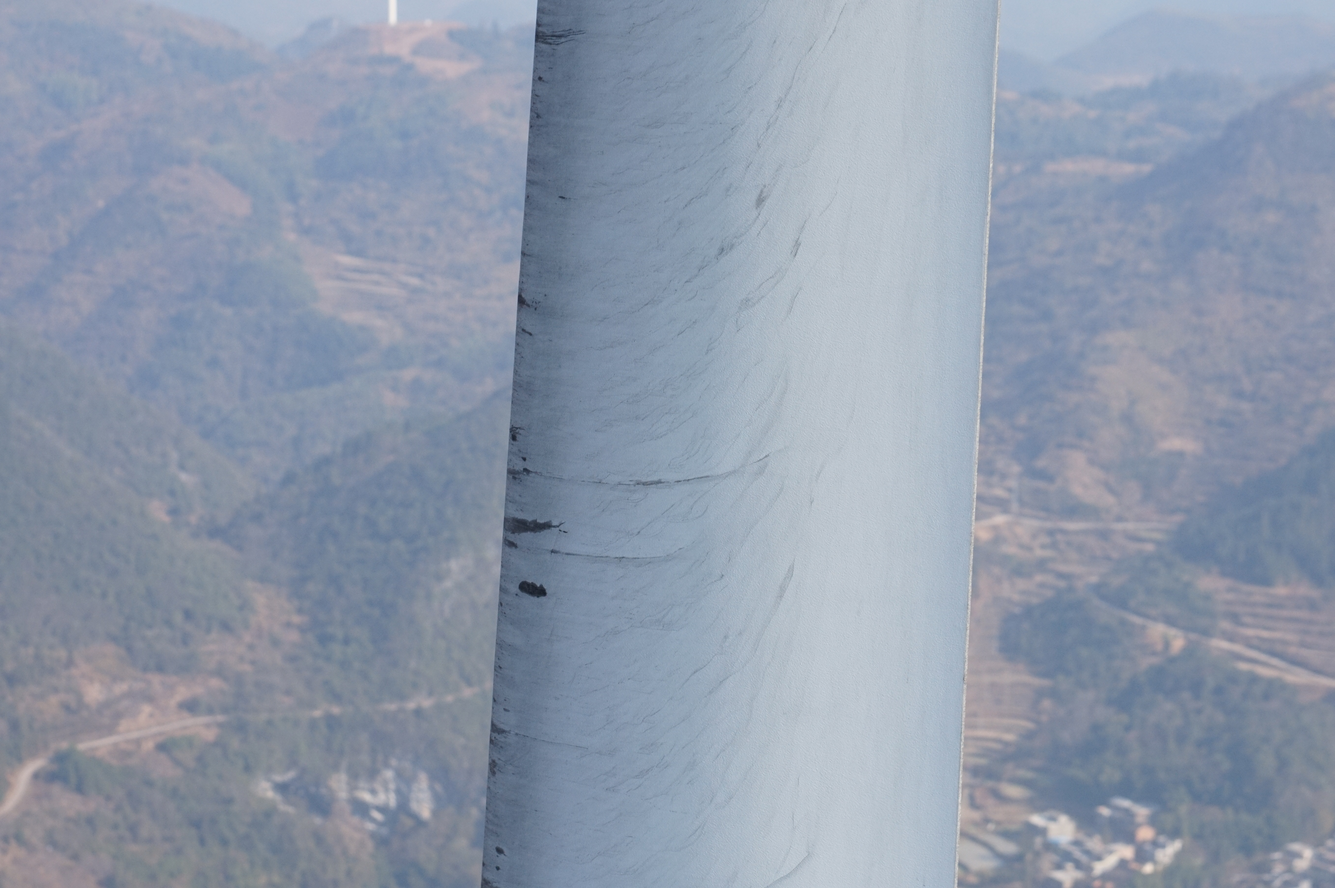Dirt: (517, 580, 548, 599)
